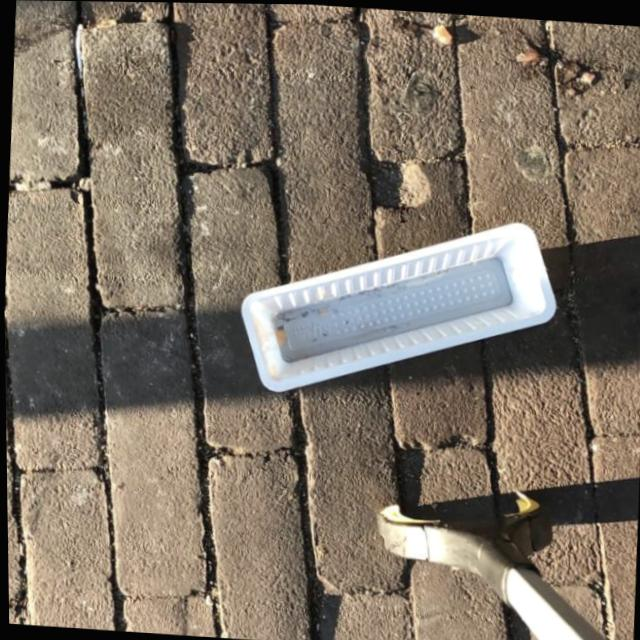Plastic: (232, 202, 564, 412)
